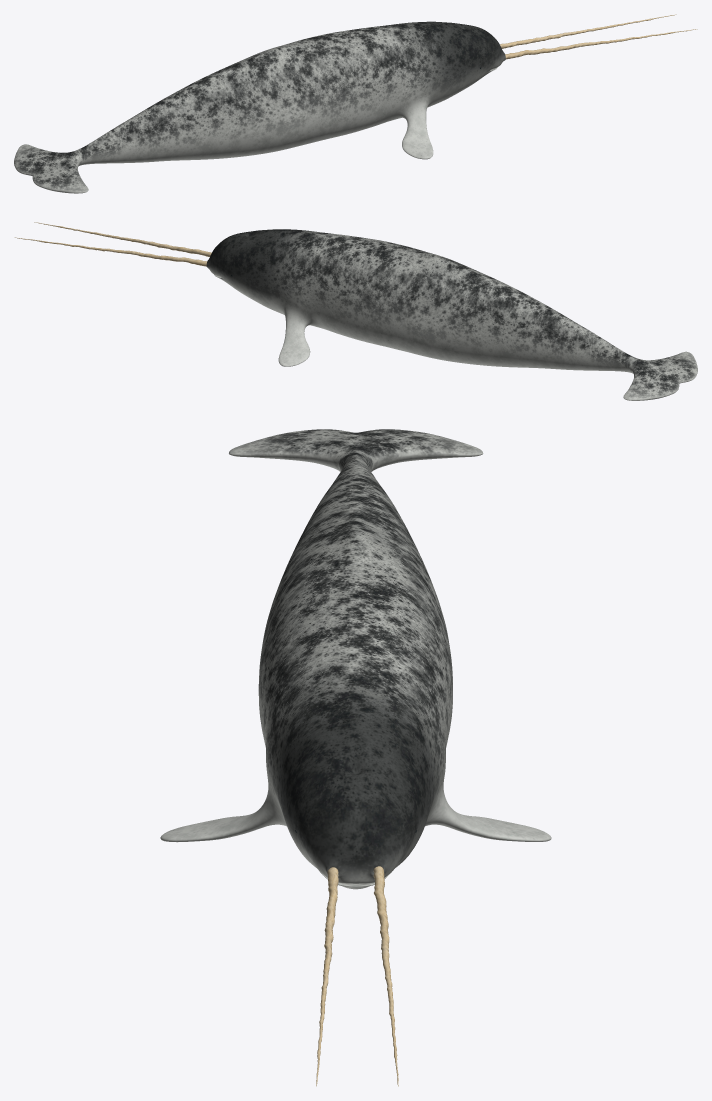
File: narwhal-two-tusks-v0661.glb
3 views of the same model, one above another, from view 1: azimuth 30°, elevation 25°; view 2: azimuth 150°, elevation 25°; view 3: azimuth 270°, elevation 25° (orthographic). The views are drawn at different scales.
Parts seen in each view (by area): view 1: narwhal-supplied-body, narwhal-right-tusk, narwhal-left-tusk; view 2: narwhal-supplied-body, narwhal-left-tusk, narwhal-right-tusk; view 3: narwhal-supplied-body, narwhal-left-tusk, narwhal-right-tusk.
Boxes of the visible parts, x1,y1,x2,y2 form: narwhal-supplied-body: [14, 21, 505, 193]; narwhal-right-tusk: [505, 29, 697, 59]; narwhal-left-tusk: [500, 14, 676, 48]; narwhal-supplied-body: [206, 229, 697, 400]; narwhal-left-tusk: [14, 237, 207, 266]; narwhal-right-tusk: [34, 222, 211, 256]; narwhal-supplied-body: [160, 429, 551, 889]; narwhal-left-tusk: [373, 866, 398, 1086]; narwhal-right-tusk: [316, 867, 338, 1086].
Size of the model in its own units: 6.29 by 0.9085 by 1.61.
3 materials, 2 textured.
